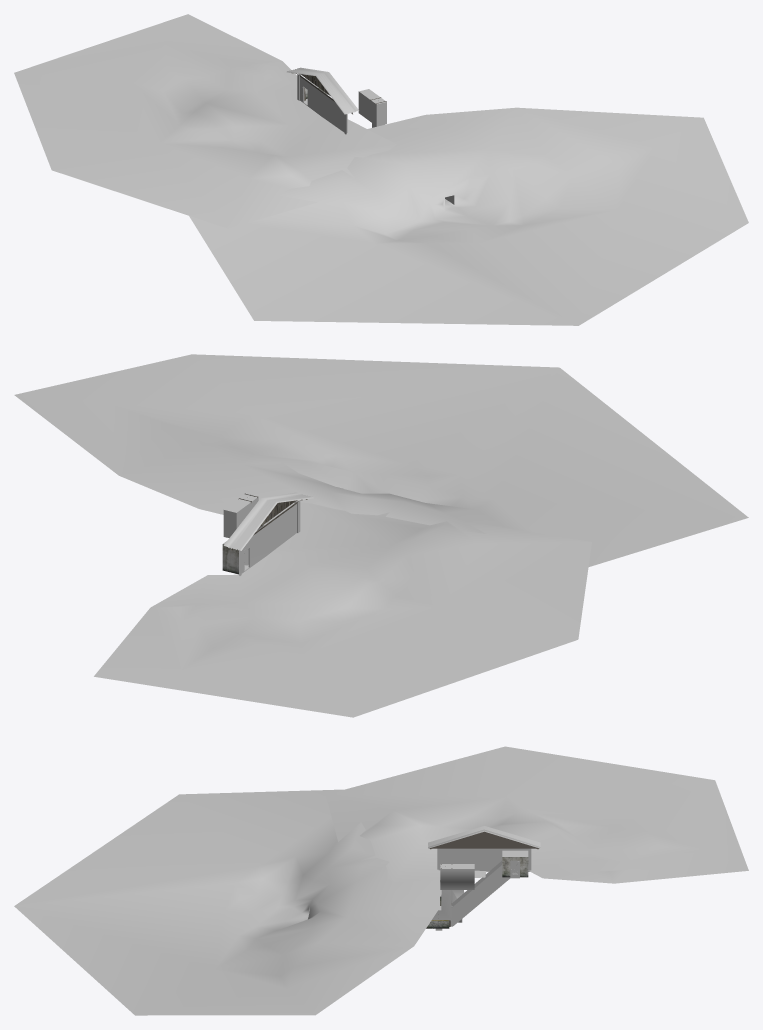
File: Basement.fbx
3 renders of one model, top to bottom at view 1: azimuth 30°, elevation 25°; view 2: azimuth 150°, elevation 25°; view 3: azimuth 270°, elevation 25°, orthographic. The views are drawn at different scales.
Parts seen in each view (by area): view 1: Lansdcape_B, Landscape, ElevetorRoom; view 2: Lansdcape_B, Landscape, ElevetorRoom; view 3: Lansdcape_B, Landscape, Corridor, ElevetorRoom.
Boxes of the visible parts, left/top/right/bottom form: Lansdcape_B: left=189, top=107, right=748, bottom=325; Landscape: left=14, top=14, right=396, bottom=228; ElevetorRoom: left=358, top=89, right=386, bottom=126; Lansdcape_B: left=14, top=354, right=748, bottom=566; Landscape: left=94, top=492, right=591, bottom=717; ElevetorRoom: left=223, top=493, right=258, bottom=537; Lansdcape_B: left=14, top=789, right=439, bottom=1015; Landscape: left=326, top=746, right=748, bottom=883; Corridor: left=451, top=850, right=528, bottom=926; ElevetorRoom: left=440, top=864, right=474, bottom=921.
Size of the model in its own units: 6980 by 1342 by 8370.
